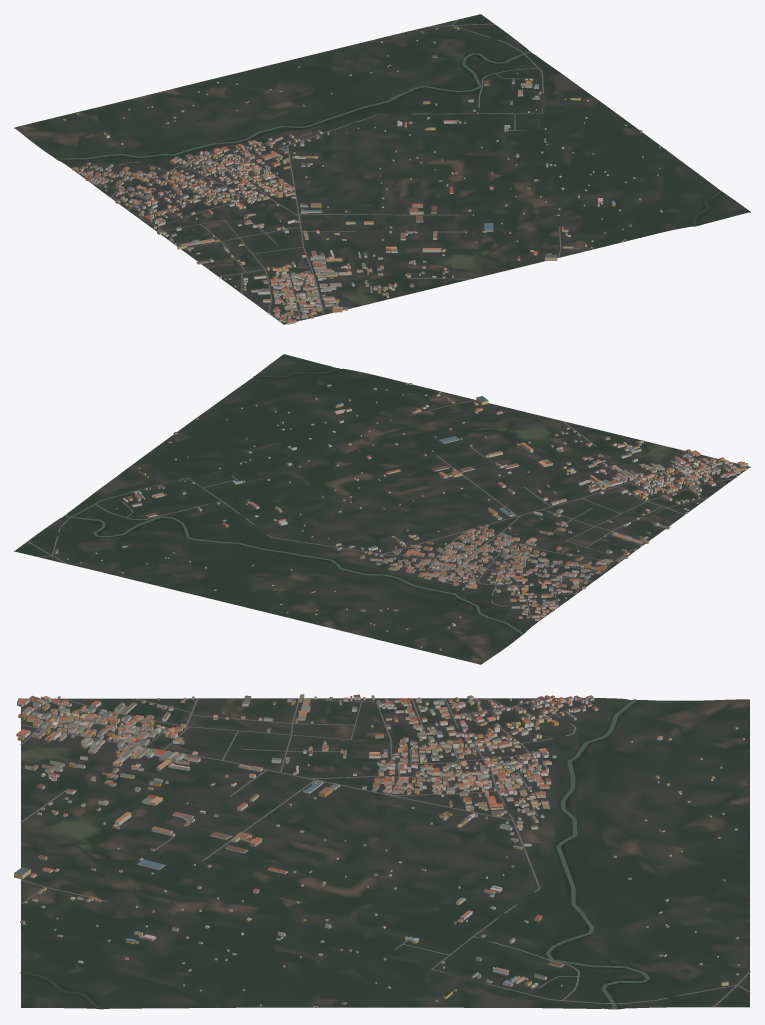
3 views of the same model, one above another, from view 1: azimuth 30°, elevation 25°; view 2: azimuth 150°, elevation 25°; view 3: azimuth 270°, elevation 25° (orthographic). The views are drawn at different scales.
Visible parts, largest first — view 1: ground, buildings, roads, water; view 2: ground, buildings, roads, water; view 3: ground, buildings, roads, water.
Part boxes in pixels (x1,y1,x2,y2): ground: (14, 14, 750, 324); buildings: (63, 26, 662, 324); roads: (76, 19, 595, 324); water: (56, 51, 721, 226); ground: (14, 354, 750, 664); buildings: (55, 382, 748, 650); roads: (27, 391, 750, 618); water: (64, 368, 523, 634); ground: (21, 698, 749, 1009); buildings: (14, 694, 744, 1007); roads: (20, 698, 750, 1007); water: (20, 699, 650, 1009).
Bounding box in the file's own units: 1411 × 21.79 × 1417.
